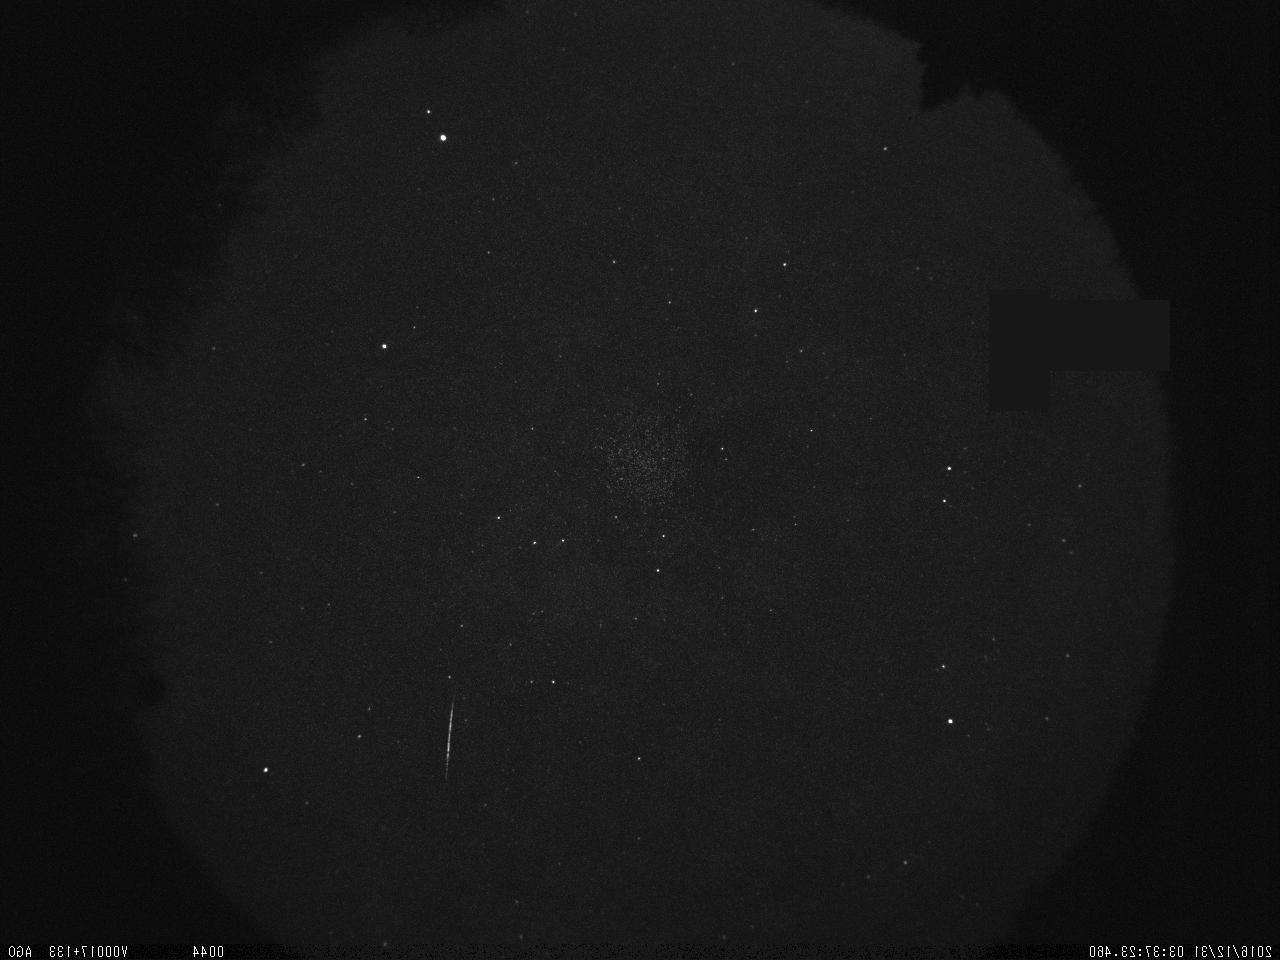meteor: (428, 682, 463, 785)
